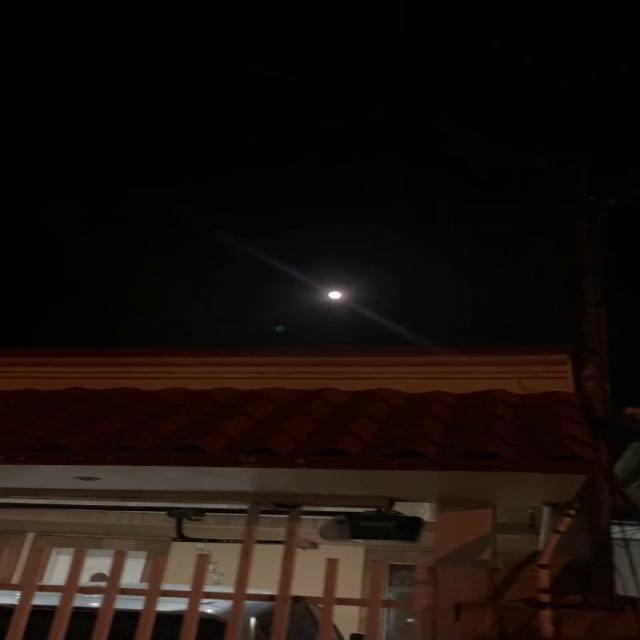moon: (316, 283, 353, 304)
